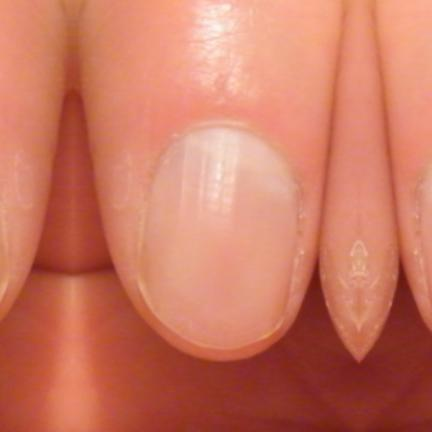Nail: (138, 126, 299, 348), (418, 164, 432, 304), (0, 218, 6, 301)
